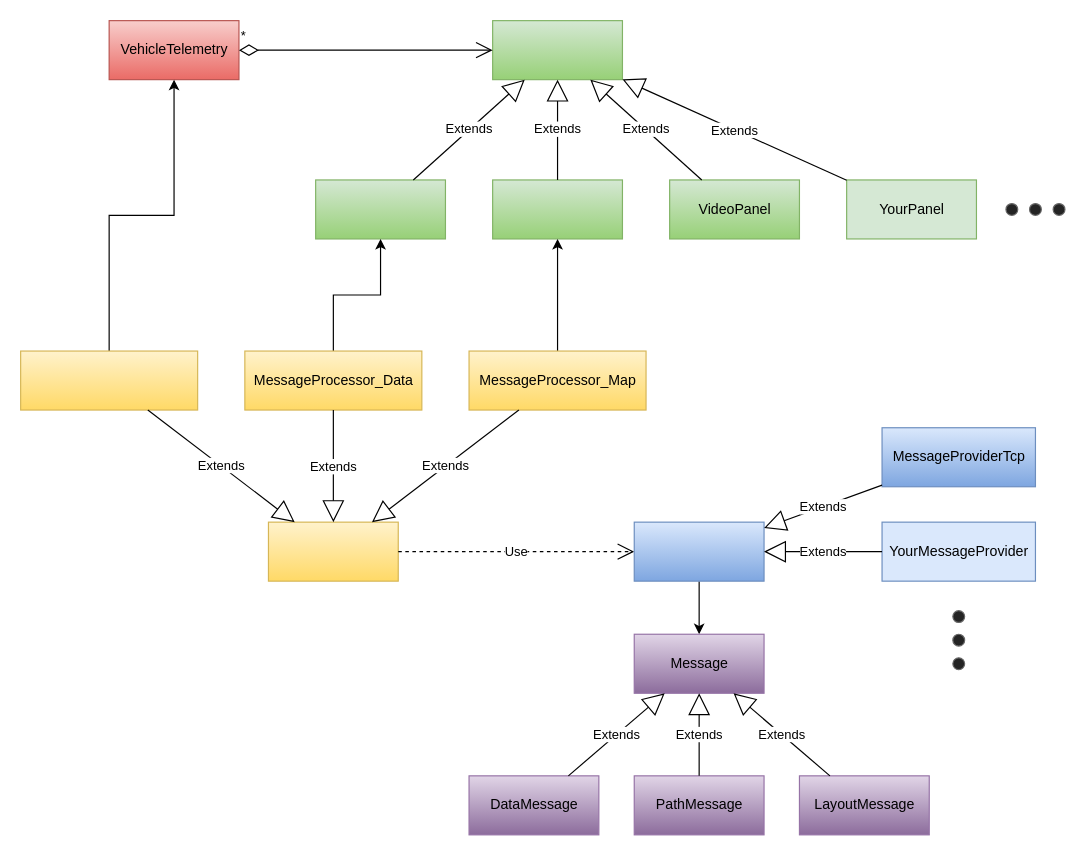
Image size: 1086x855. Some labels were removed from this diagram. Here are the shapes that lost their labels. From the top down, the centre of each, then its label:
At pixel 556 49: "Panel".
At pixel 379 209: "DataPanel".
At pixel 556 209: "MapPanel".
At pixel 108 380: "MessageProcessor_Path".
At pixel 332 551: "MessageProcessor".
At pixel 698 551: "«interface» IMessageProvider".
